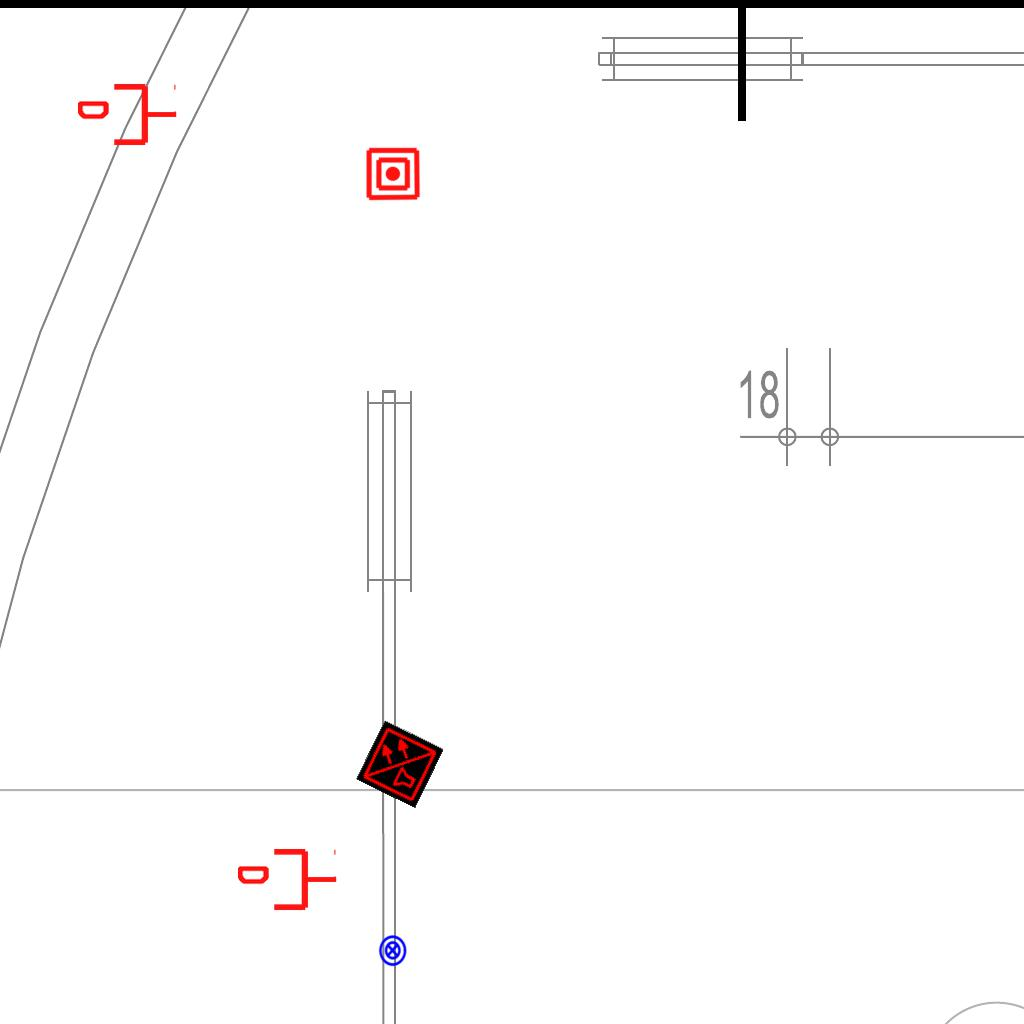Datenanschluss_einfach: (78, 80, 178, 149), (238, 845, 338, 914)
NAM-Nichtautomatischer_Melder: (365, 146, 421, 202)
OKW_Multisensormelder_(Kombination_optischer_Rauch-Kahlenmonoxid_Waerme-Melder): (355, 719, 445, 809)
Taster_beleuchtet: (376, 934, 409, 967)
